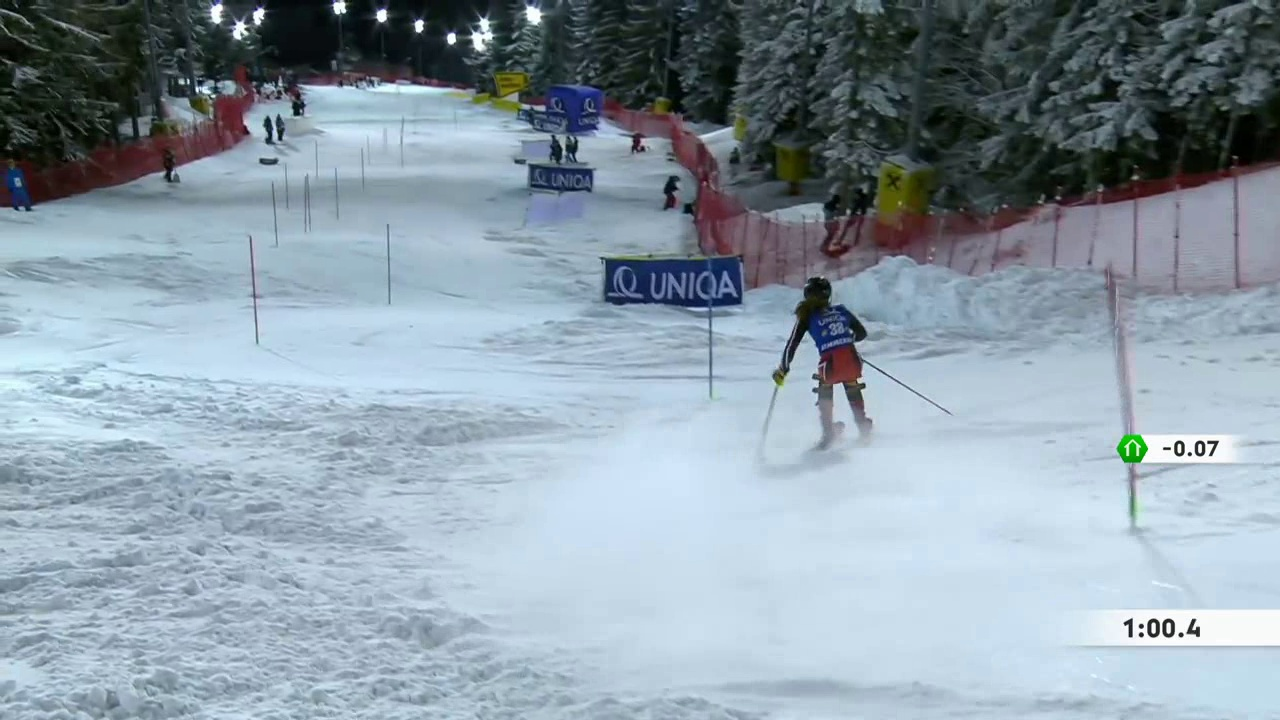uniqa: (598, 255, 747, 316)
